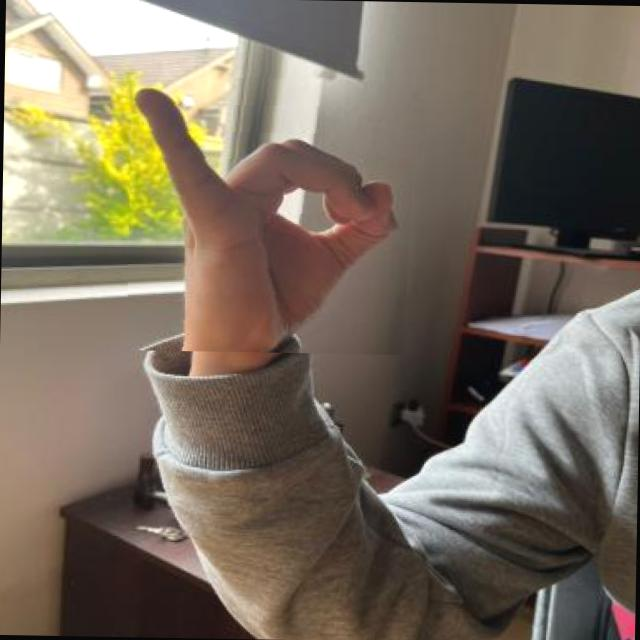D: (126, 62, 418, 354)
